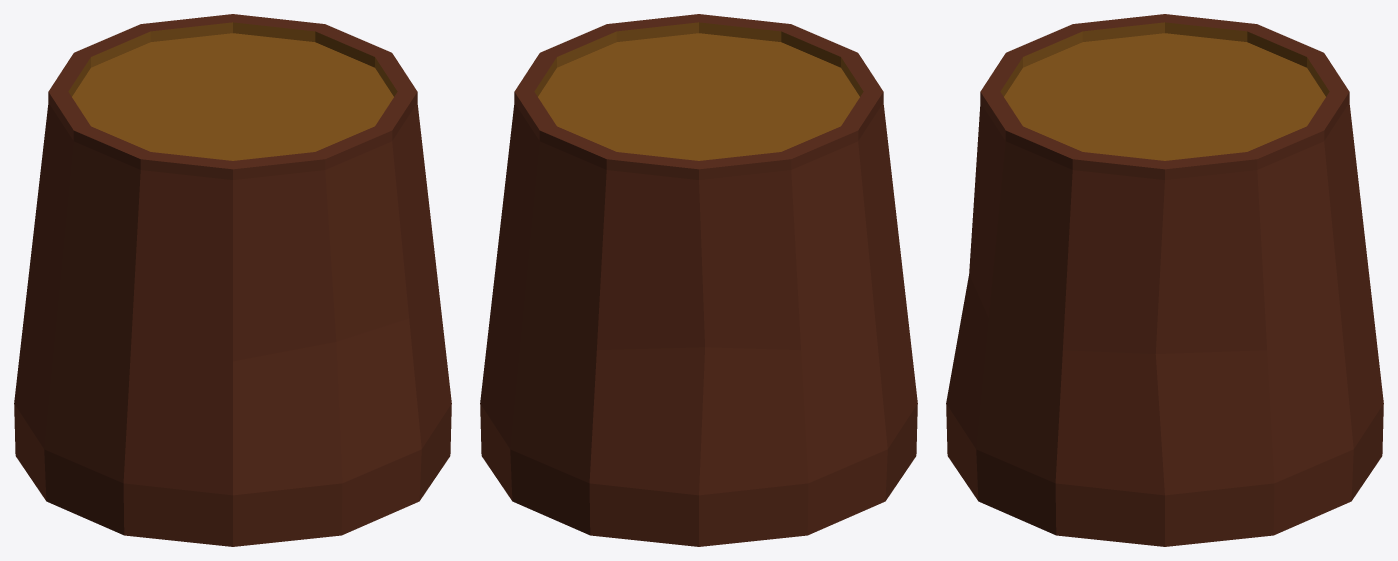
The model's file is trunk.fbx.
The picture shows the model from 3 angles, left to right: view 1: azimuth 30°, elevation 25°; view 2: azimuth 150°, elevation 25°; view 3: azimuth 270°, elevation 25°; orthographic projection.
Visible parts, largest first — view 1: Green Tree Snow 3.001; view 2: Green Tree Snow 3.001; view 3: Green Tree Snow 3.001.
Part boxes in pixels (left/top/right/bottom): Green Tree Snow 3.001: left=14, top=14, right=451, bottom=546; Green Tree Snow 3.001: left=480, top=14, right=917, bottom=546; Green Tree Snow 3.001: left=946, top=14, right=1383, bottom=546.
Bounding box in the file's own units: 343 × 323 × 345.
